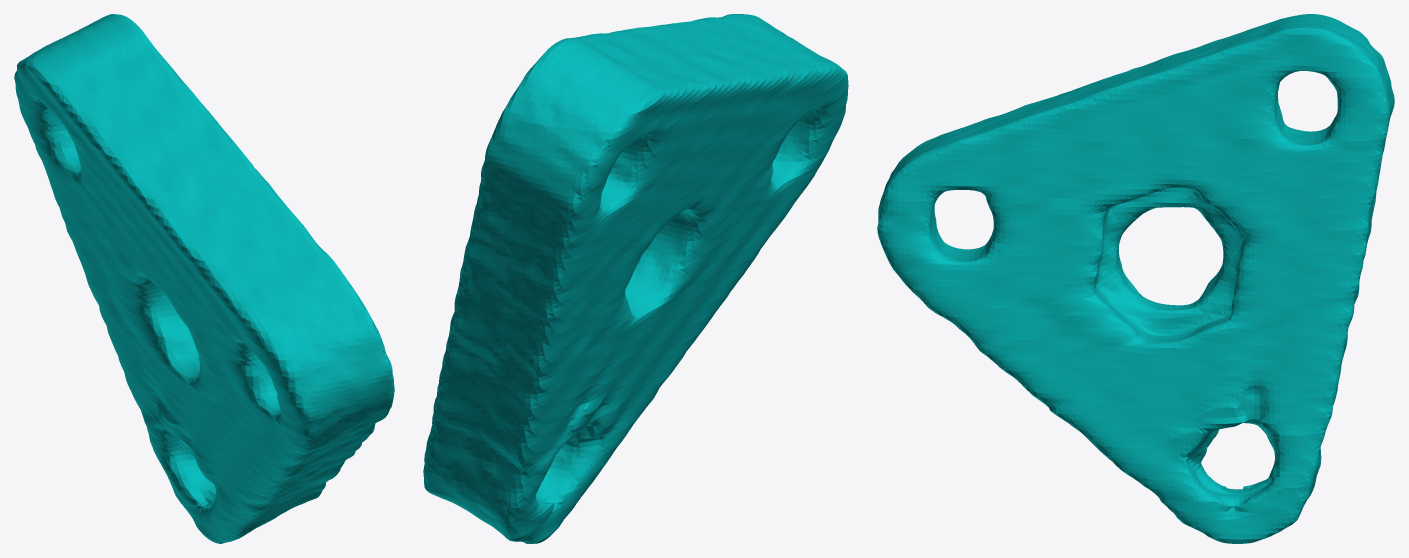
3 renders of one model, left to right at view 1: azimuth 30°, elevation 25°; view 2: azimuth 150°, elevation 25°; view 3: azimuth 270°, elevation 25°, orthographic. The views are drawn at different scales.
Bounding box in the file's own units: 0.4816 × 1 × 0.98.
